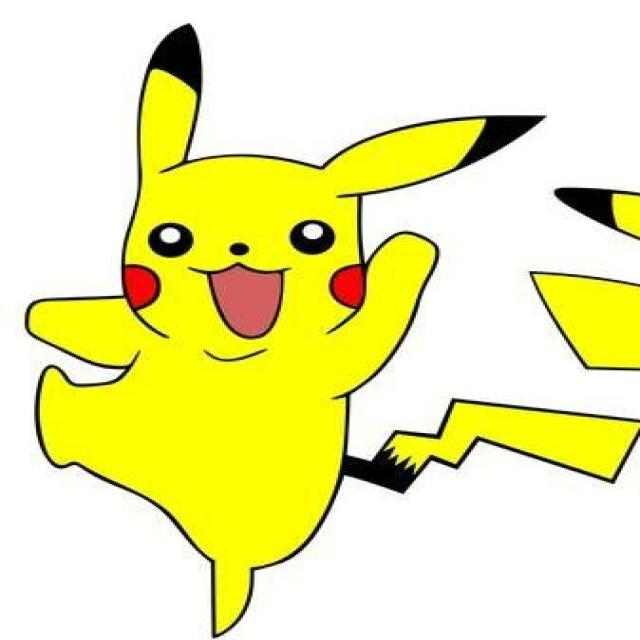pikachu: (27, 23, 640, 637)
